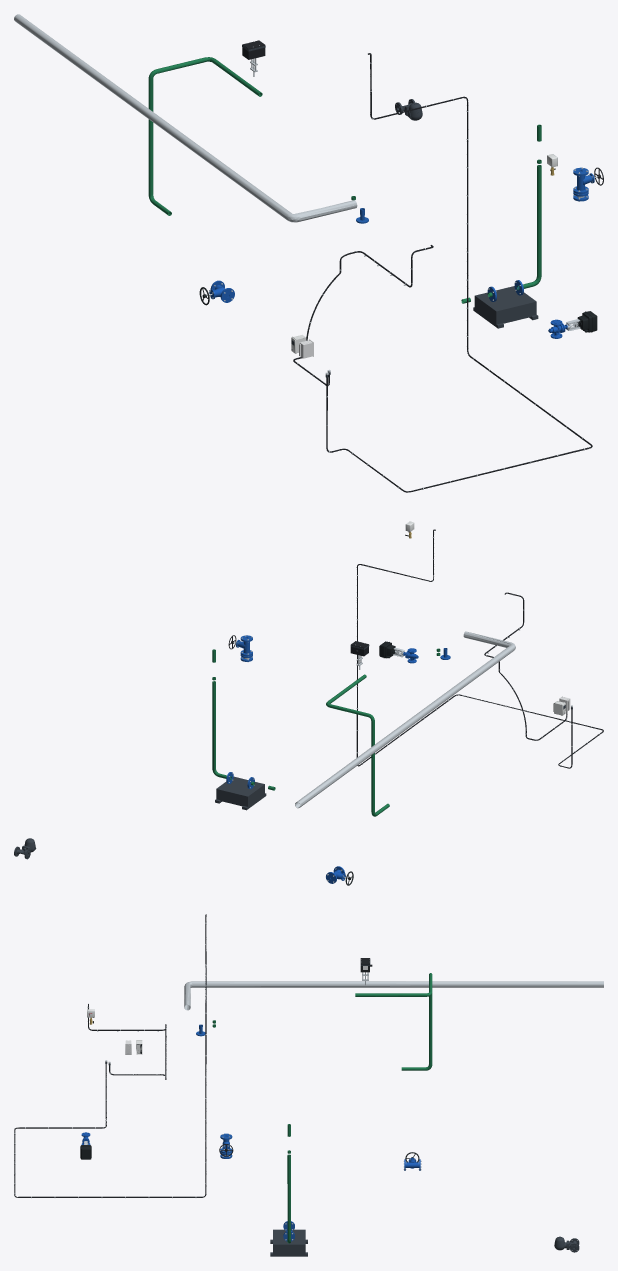
3 renders of one model, top to bottom at view 1: azimuth 30°, elevation 25°; view 2: azimuth 150°, elevation 25°; view 3: azimuth 270°, elevation 25°, orthographic. The views are drawn at different scales.
Visible parts, largest first — view 1: safety_vent_1 / steel, gpz_drive_cable / black, pump_branch_2 / dark, from_economizer / green, pump_branch_2 / green, bcv925 / bcv925_0.npz; view 2: safety_vent_1 / steel, pump_branch_2 / dark, gpz_drive_cable / black, from_economizer / green, pump_branch_2 / green; view 3: safety_vent_1 / steel, gpz_drive_cable / black, pump_branch_2 / dark, from_economizer / green.
Part boxes in pixels (x1,y1,x2,y2): safety_vent_1 / steel: (14,14,357,222); gpz_drive_cable / black: (326,53,592,492); pump_branch_2 / dark: (473,286,538,328); from_economizer / green: (148,57,247,215); pump_branch_2 / green: (461,124,541,303); bcv925 / bcv925_0.npz: (548,311,597,338); safety_vent_1 / steel: (295,631,515,808); pump_branch_2 / dark: (215,776,266,810); gpz_drive_cable / black: (356,529,603,768); from_economizer / green: (326,682,389,816); pump_branch_2 / green: (212,649,275,790); safety_vent_1 / steel: (184,981,603,1010); gpz_drive_cable / black: (14,914,206,1197); pump_branch_2 / dark: (270,1229,307,1256); from_economizer / green: (375,973,432,1070).
Size of the model in its own units: 4.25 by 3.47 by 7.03.
